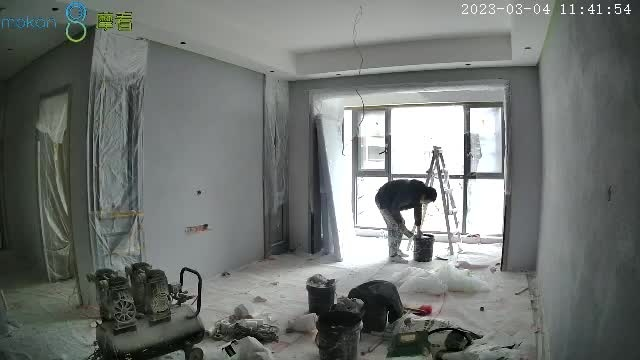people: (373, 181, 437, 263)
window: (343, 104, 507, 238)
